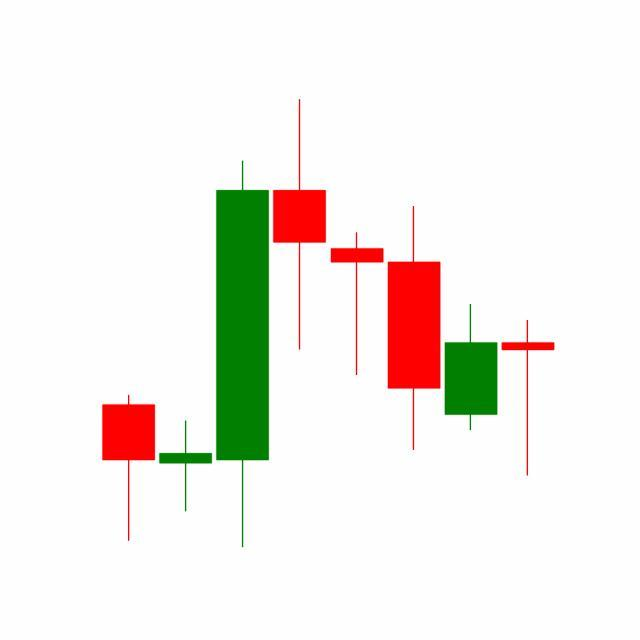Hikkake Pattern: (270, 99, 555, 481)
